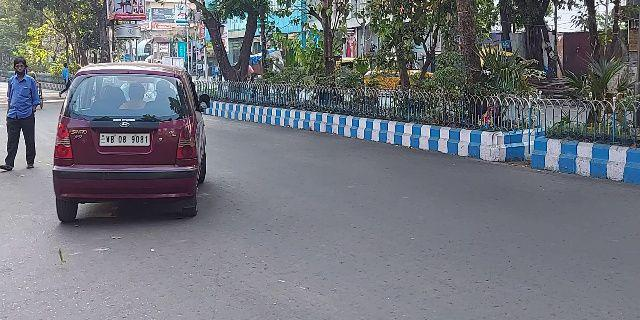Car: (51, 60, 213, 226)
